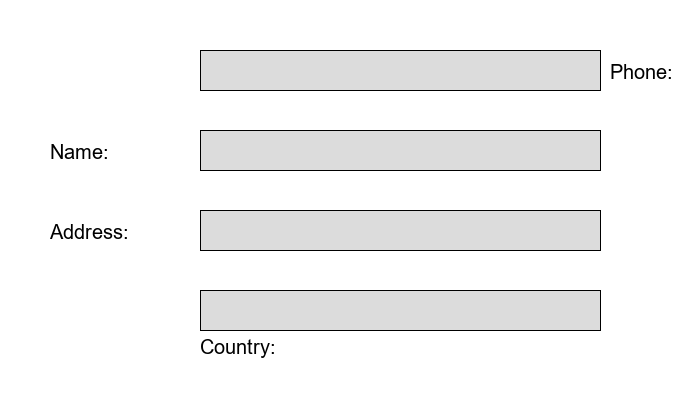Label: (200, 335, 270, 354), (50, 220, 124, 235), (610, 60, 667, 75), (50, 140, 103, 155)
Textbox: (200, 50, 600, 90), (200, 130, 600, 170), (200, 210, 600, 250), (200, 290, 600, 330)
